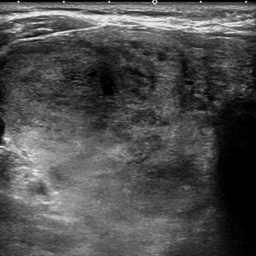mass: (10, 39, 219, 188)
